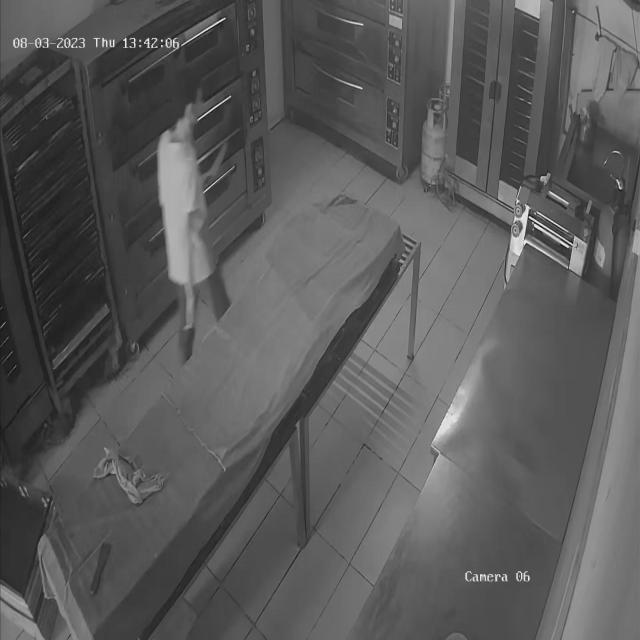Knife: (205, 126, 242, 186)
